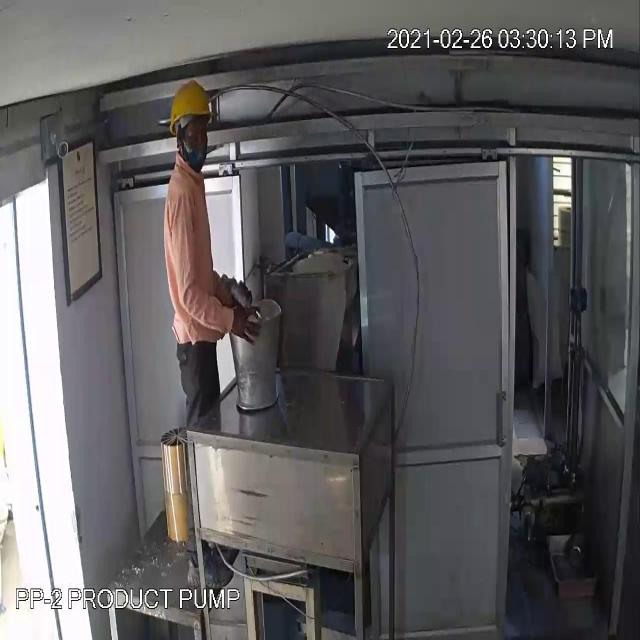helmet: (165, 79, 218, 176)
